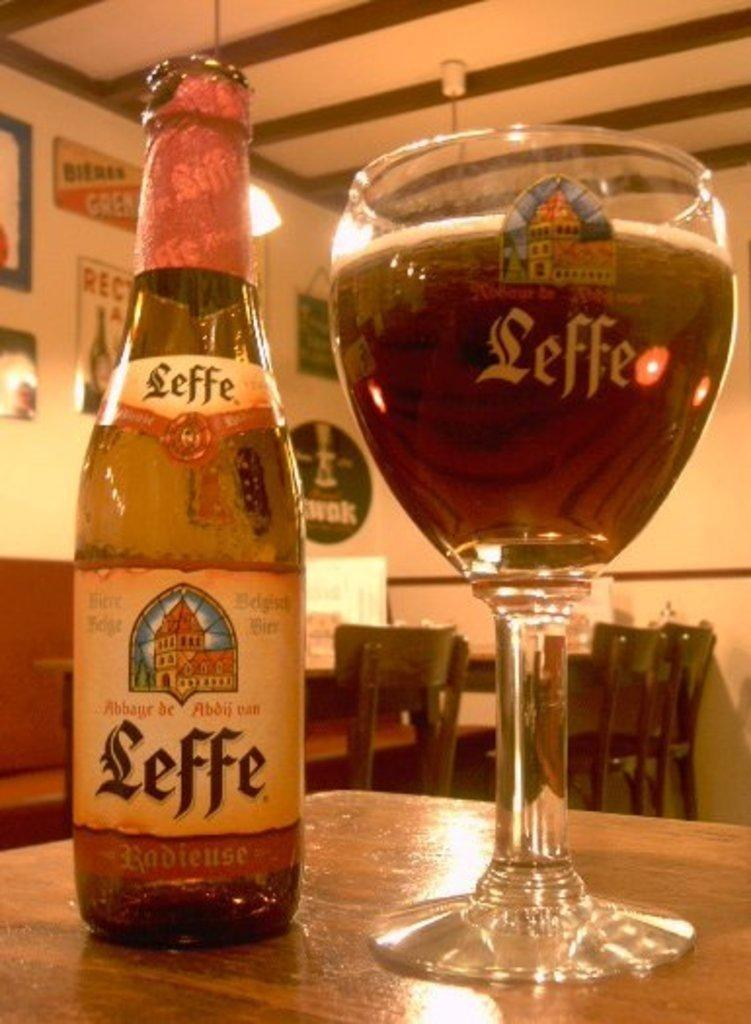bottle-glass: (66, 49, 314, 951)
glass-wine: (324, 122, 731, 988)
